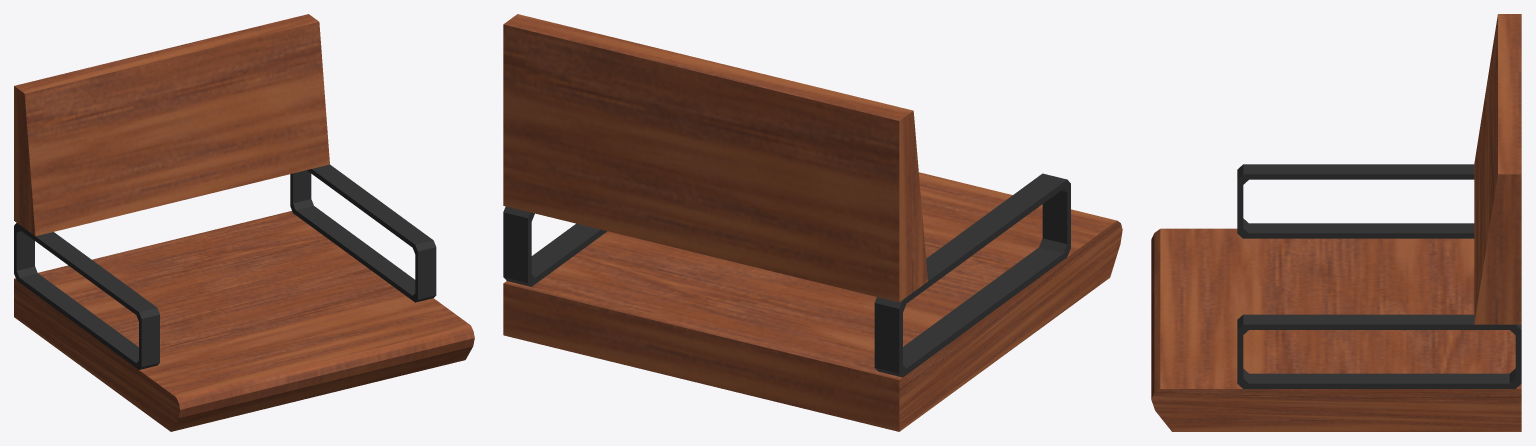
The model's file is nyc_subway_bench_2b.obj.
3 views of the same model, side by side, from view 1: azimuth 30°, elevation 25°; view 2: azimuth 150°, elevation 25°; view 3: azimuth 270°, elevation 25° (orthographic). The views are drawn at different scales.
Visible parts, largest first — view 1: cube; view 2: cube; view 3: cube.
Part boxes in pixels (box(x1,y1,x2,y2)): cube: box(14, 14, 474, 431); cube: box(503, 14, 1122, 431); cube: box(1151, 14, 1521, 431).
Size of the model in its own units: 1 by 0.75 by 0.9766.
2 materials, 2 textured.
